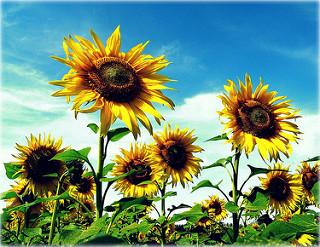sunflower: (54, 29, 176, 136), (217, 76, 298, 159), (12, 136, 71, 198), (113, 144, 167, 199), (151, 127, 203, 182), (261, 166, 303, 217), (70, 172, 98, 200), (201, 196, 228, 223)
